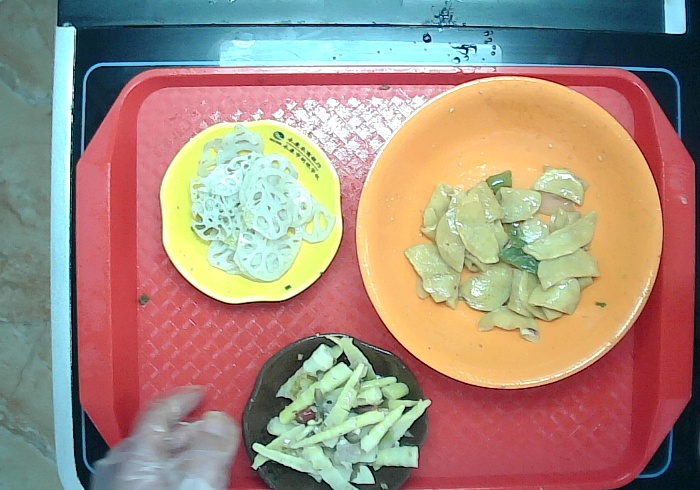YKMZ-Huang_Se_Ao_Bian_Wan: (162, 119, 346, 306)
YKMZ-Ju_Se_Tang_Wan: (351, 76, 663, 392)
YKMZ-Ka_Fei_Ao_Bian_Wan: (241, 332, 441, 490)
